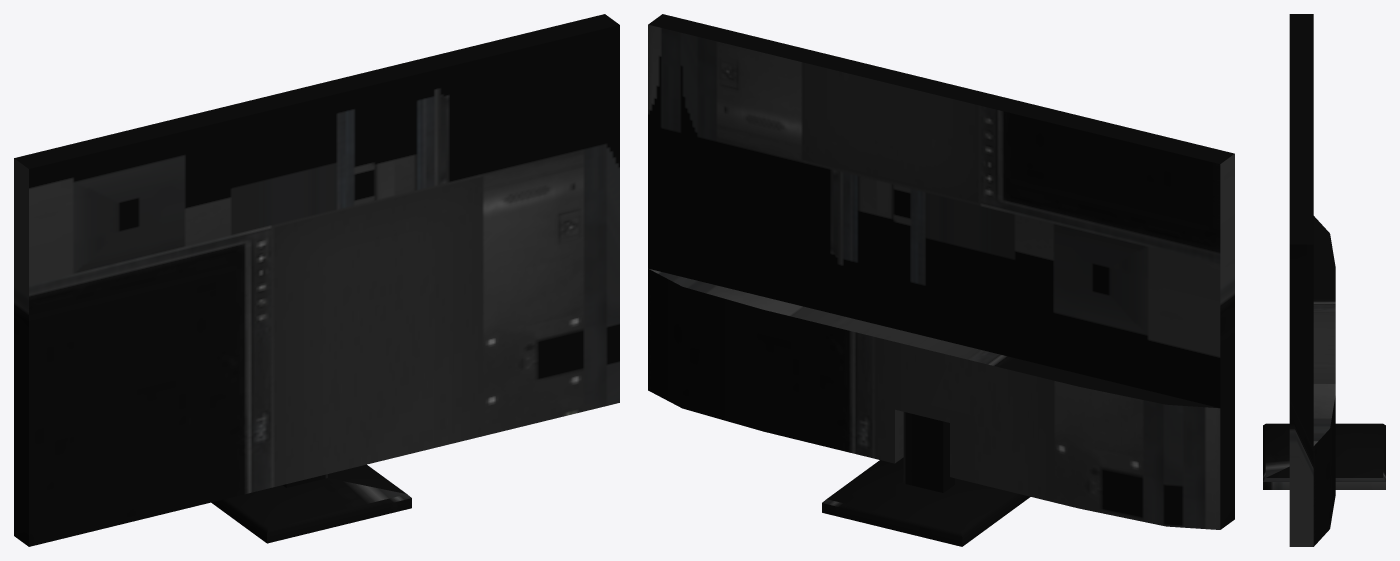
Rendered from monitor.fbx.
The picture shows the model from 3 angles, left to right: view 1: azimuth 30°, elevation 25°; view 2: azimuth 150°, elevation 25°; view 3: azimuth 270°, elevation 25°; orthographic projection. The views are drawn at different scales.
Parts seen in each view (by area): view 1: Monitor; view 2: Monitor; view 3: Monitor.
Part boxes in pixels (x1,y1,x2,y2): Monitor: (14,14,619,546); Monitor: (648,14,1234,546); Monitor: (1263,14,1385,546).
Bounding box in the file's own units: 133 × 89.25 × 29.85.
Materials: 1 (1 with a texture image).
